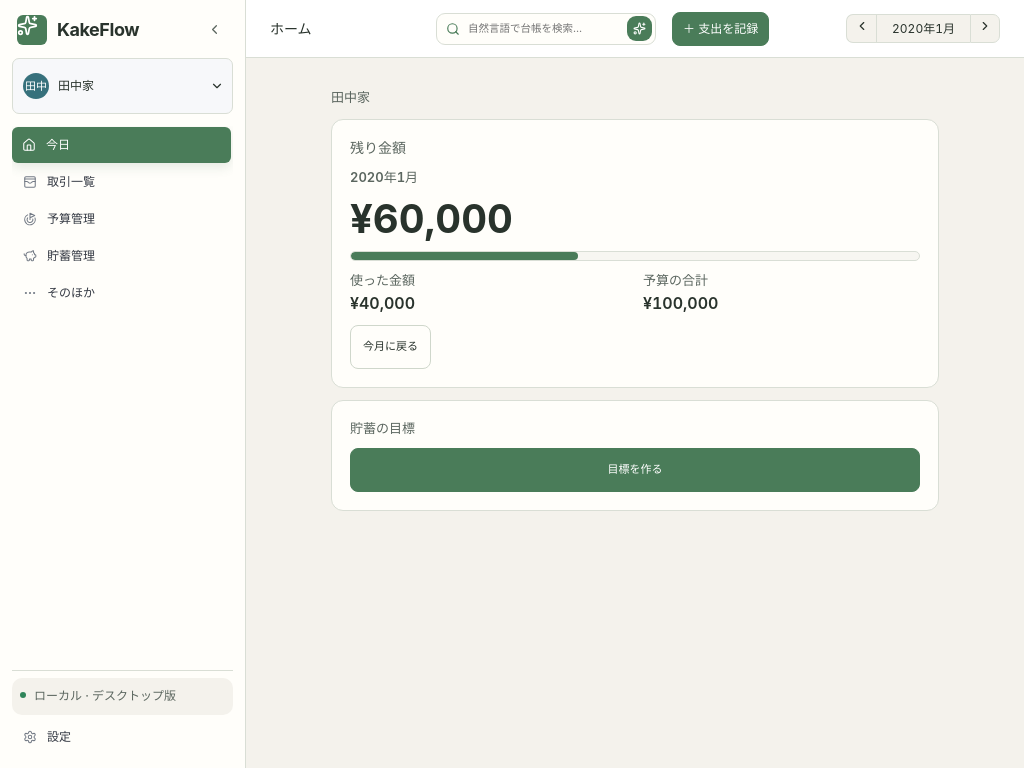
Test: Simple mode in the app shell › labels a saved earlier month neutrally and goes back to this month from the Home
Check: the text with class "simple-hero-month" reads "2020年1月", box left=350, top=169, right=418, bottom=185
Click the button "今月に戻る": (390, 347) left=350, top=325, right=431, bottom=369
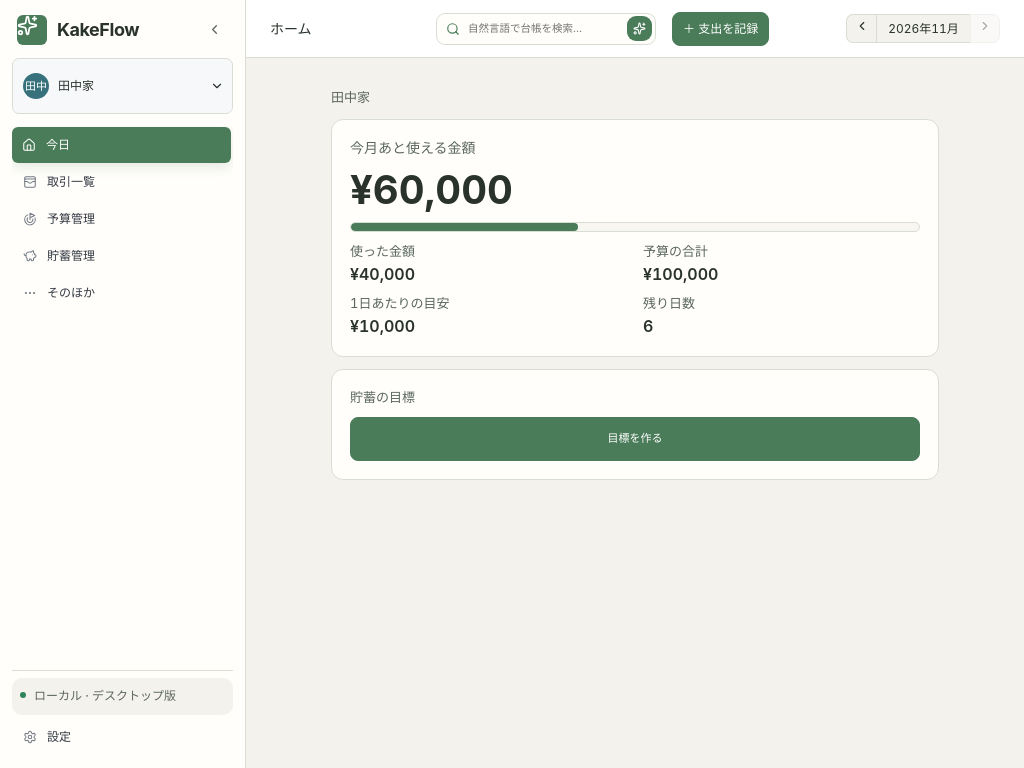
Check: the heading "今月あと使える金額" is shown, box left=350, top=139, right=476, bottom=156
Check: the button "2026年11月" is shown, box left=876, top=14, right=970, bottom=43
Check: the button "今月に戻る" is gone
